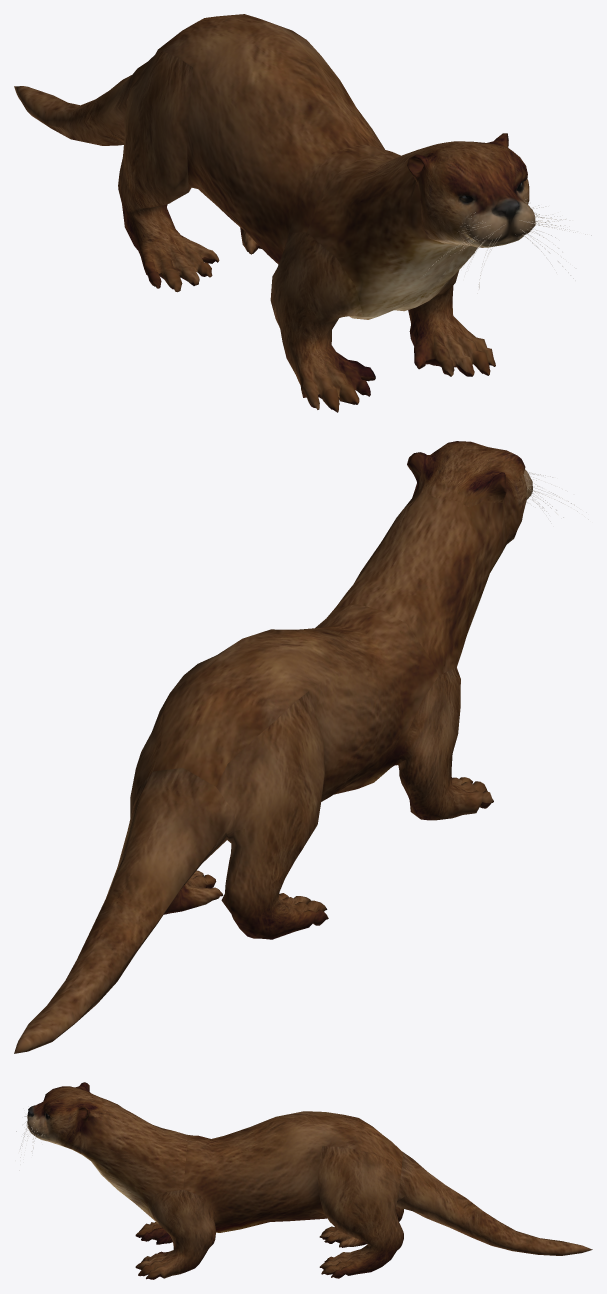
The picture shows the model from 3 angles, top to bottom: view 1: azimuth 30°, elevation 25°; view 2: azimuth 150°, elevation 25°; view 3: azimuth 270°, elevation 25°; orthographic projection. The views are drawn at different scales.
Parts seen in each view (by area): view 1: body, Hair; view 2: body; view 3: body.
Boxes of the visible parts, box(x1,y1,x2,y2) form: body: box(14, 14, 535, 412); Hair: box(429, 198, 591, 293); body: box(14, 441, 532, 1053); body: box(27, 1082, 592, 1279).
Bounding box in the file's own units: 31.14 × 46.96 × 151.
2 materials, 1 textured.
